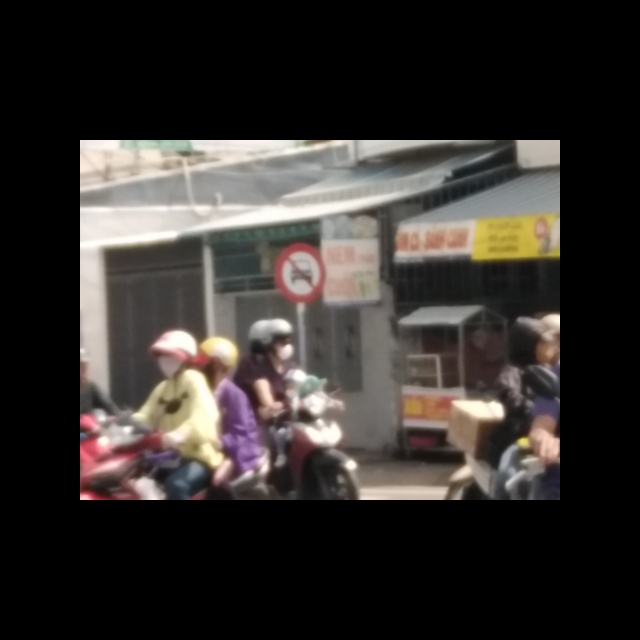Cấm xe ô tô: (273, 242, 328, 305)
